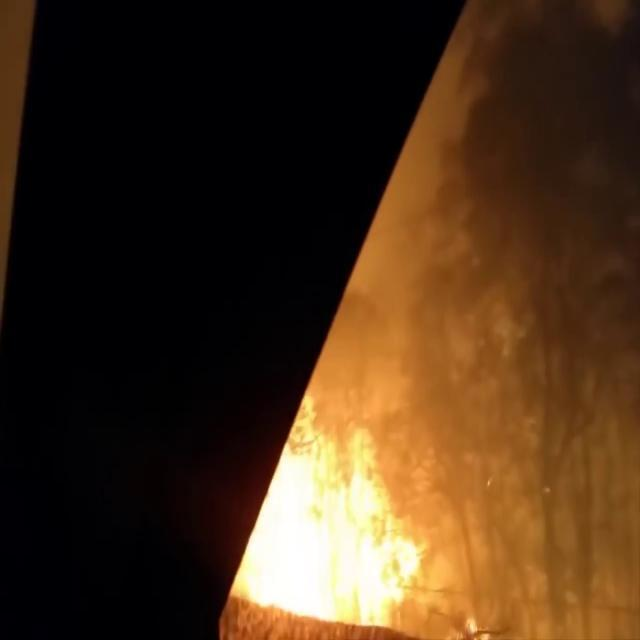Fire: (228, 429, 414, 624)
Smoke: (416, 286, 552, 634), (304, 235, 429, 422)
